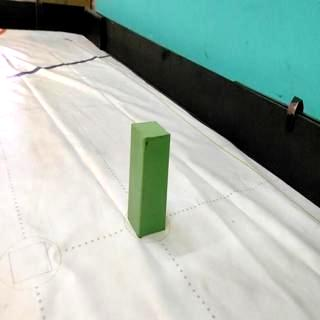greenbox: (125, 118, 171, 238)
